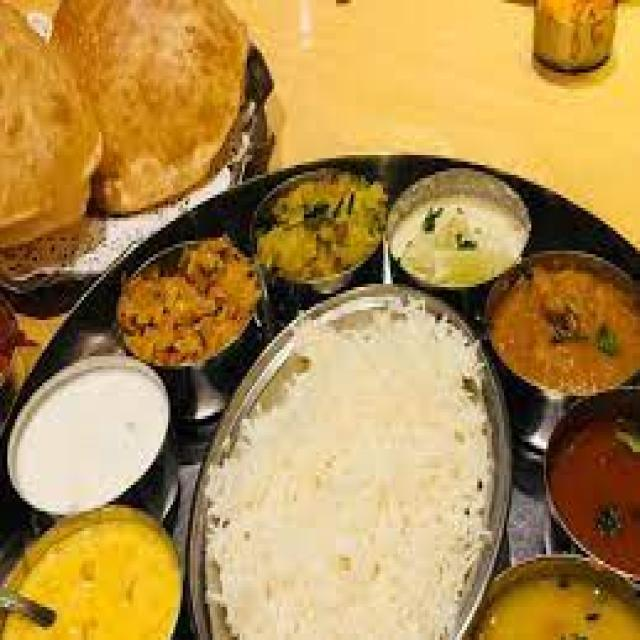dal: (481, 255, 632, 411), (14, 499, 181, 640), (383, 158, 543, 301), (251, 164, 386, 300), (462, 563, 640, 640)
roti: (34, 5, 256, 215), (1, 17, 96, 257)
sambar-rasam: (5, 351, 179, 527), (539, 390, 634, 588)
veg-fry: (117, 224, 260, 374)
